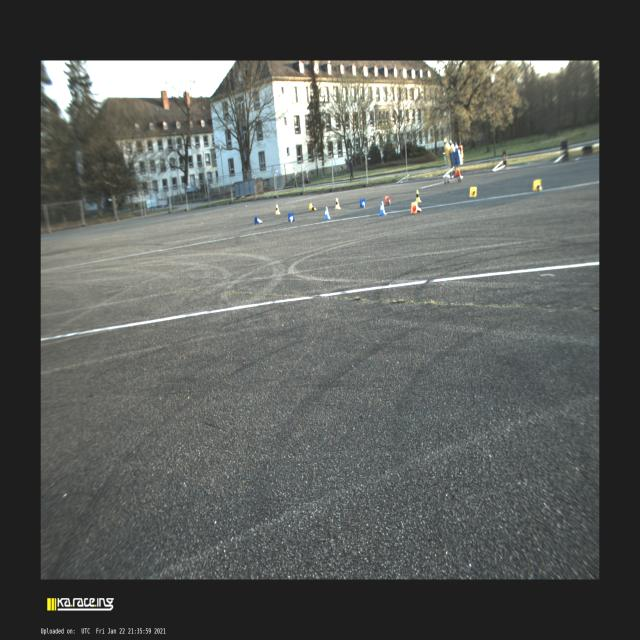blue_cone: (378, 201, 386, 215), (324, 207, 332, 220), (288, 212, 294, 222), (255, 217, 262, 224), (360, 199, 366, 207)
orange_cone: (411, 202, 422, 213), (384, 195, 390, 205)
yellow_cone: (534, 180, 542, 190), (415, 190, 421, 202), (469, 187, 476, 197), (308, 203, 316, 211), (334, 198, 340, 208), (276, 204, 280, 214)
